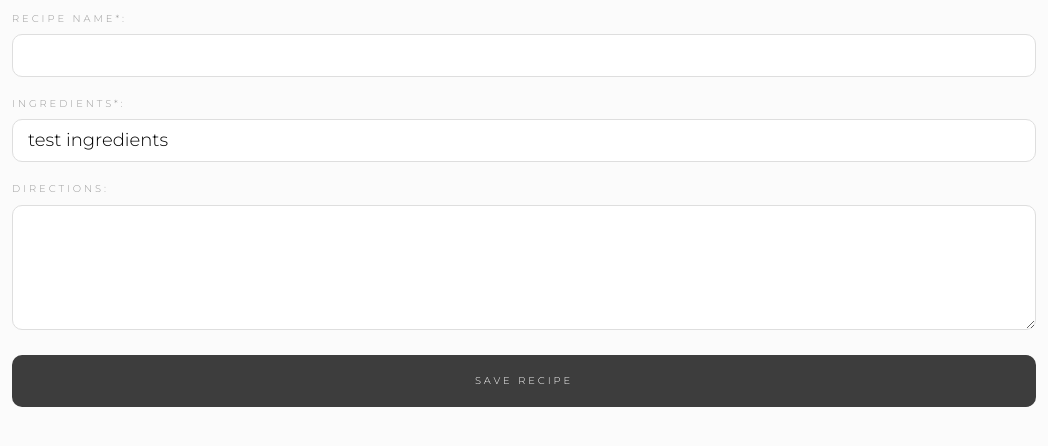
it: Form component validates the name field
Click the button with test id "submit-form-btn": coordinates (524, 381) [12,355,1036,407]
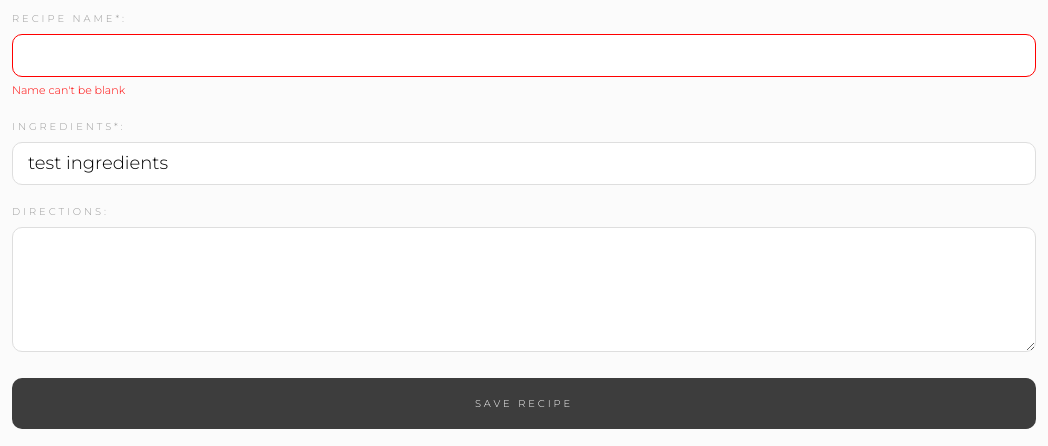
Now the text "Name can't be blank" is shown, box [12,83,125,97]
